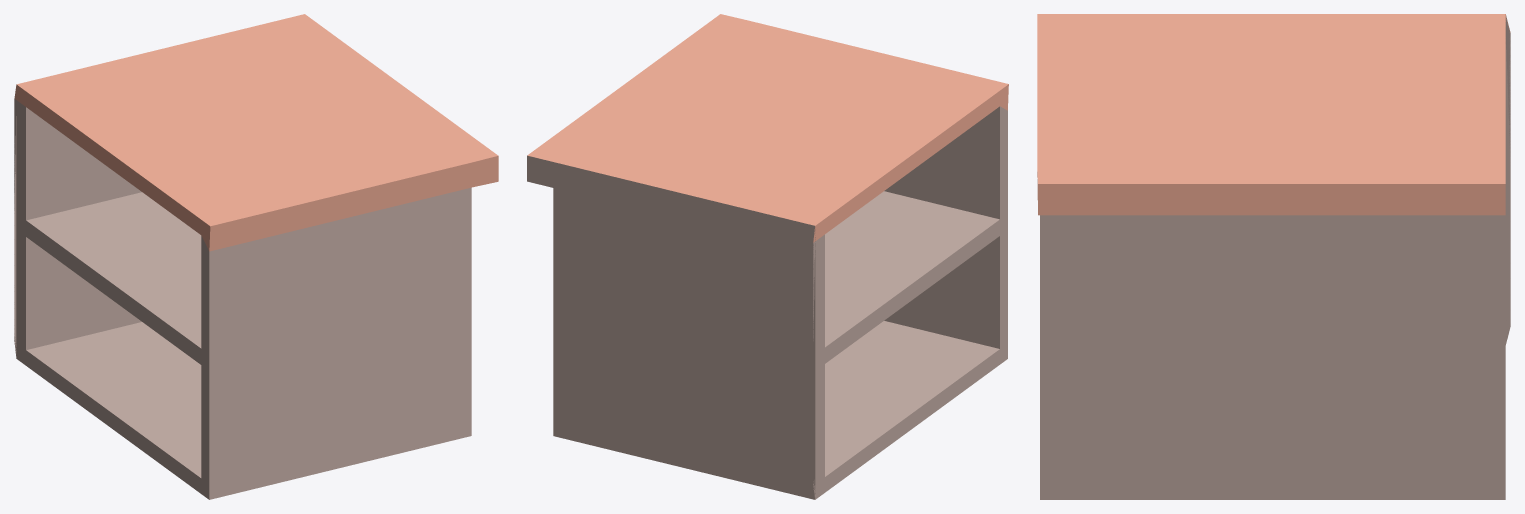
The picture shows the model from 3 angles, left to right: view 1: azimuth 30°, elevation 25°; view 2: azimuth 150°, elevation 25°; view 3: azimuth 270°, elevation 25°; orthographic projection. The views are drawn at different scales.
Parts seen in each view (by area): view 1: pCube5; view 2: pCube5; view 3: pCube5.
Part boxes in pixels (<box>): pCube5: <box>14,14,498,499</box>; pCube5: <box>527,14,1008,499</box>; pCube5: <box>1037,14,1510,499</box>.
Bounding box in the file's own units: 7.76 × 7.05 × 9.13.
